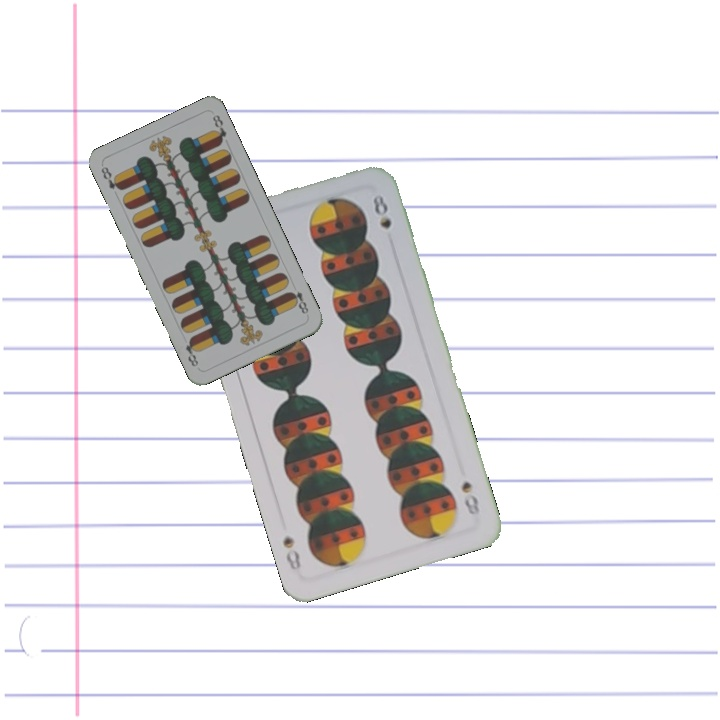E8: (97, 162, 125, 193), (285, 287, 311, 319)
S8: (457, 476, 482, 518)
